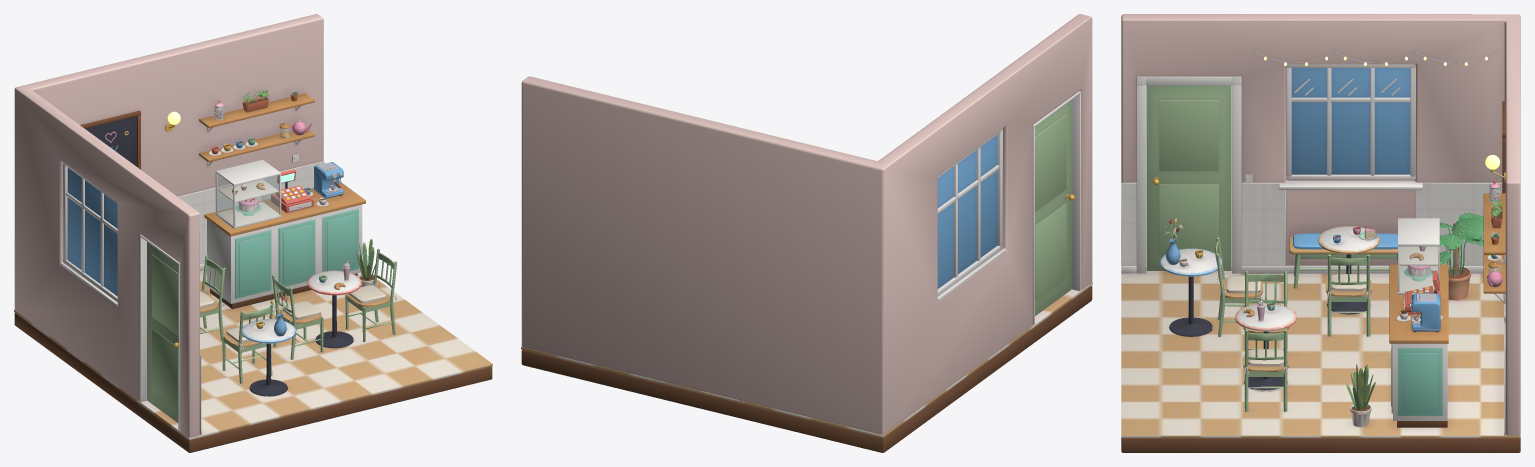
File: cafe-interior.glb
The picture shows the model from 3 angles, left to right: view 1: azimuth 30°, elevation 25°; view 2: azimuth 150°, elevation 25°; view 3: azimuth 270°, elevation 25°; orthographic projection. The views are drawn at different scales.
Parts seen in each view (by area): view 1: cafe-interior_body, cafe-interior_cake_display, cafe-interior_cake_display_glass; view 2: cafe-interior_body; view 3: cafe-interior_body, cafe-interior_cake_display, cafe-interior_cake_display_glass.
Part boxes in pixels (x1,y1,x2,y2): cafe-interior_body: [14, 14, 492, 452]; cafe-interior_cake_display: [215, 159, 281, 228]; cafe-interior_cake_display_glass: [217, 174, 279, 225]; cafe-interior_body: [521, 14, 1092, 452]; cafe-interior_body: [1121, 14, 1520, 452]; cafe-interior_cake_display: [1398, 218, 1439, 294]; cafe-interior_cake_display_glass: [1400, 246, 1437, 291].
Bounding box in the file's own units: 4 × 3 × 4.
Materials: 16 (1 with a texture image).
